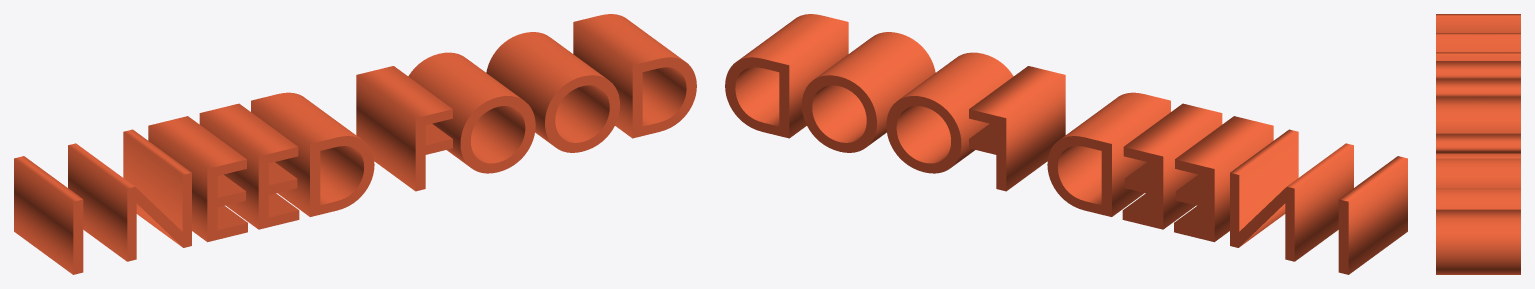
File: Gluttony1.fbx
The picture shows the model from 3 angles, left to right: view 1: azimuth 30°, elevation 25°; view 2: azimuth 150°, elevation 25°; view 3: azimuth 270°, elevation 25°; orthographic projection. The views are drawn at different scales.
Parts seen in each view (by area): view 1: Text; view 2: Text; view 3: Text.
Part boxes in pixels (box(x1,y1,x2,y2)): Text: box(14, 14, 696, 274); Text: box(725, 14, 1407, 274); Text: box(1436, 14, 1520, 274).
Bounding box in the file's own units: 608 × 70 × 100.
